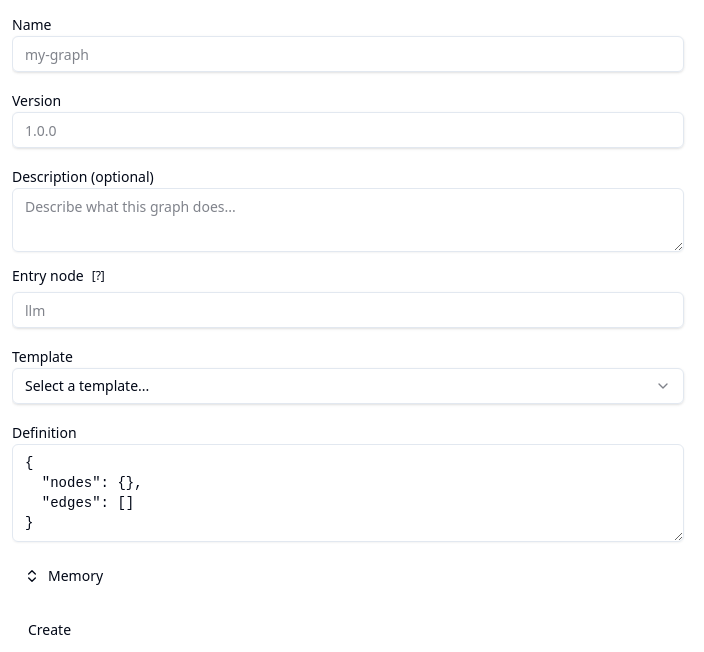
Scenario: GraphForm › shows JSON error for invalid definition
Clear the text box labelled "Definition". click: (348, 493)
box: top-left (12, 444), bottom-right (684, 542)
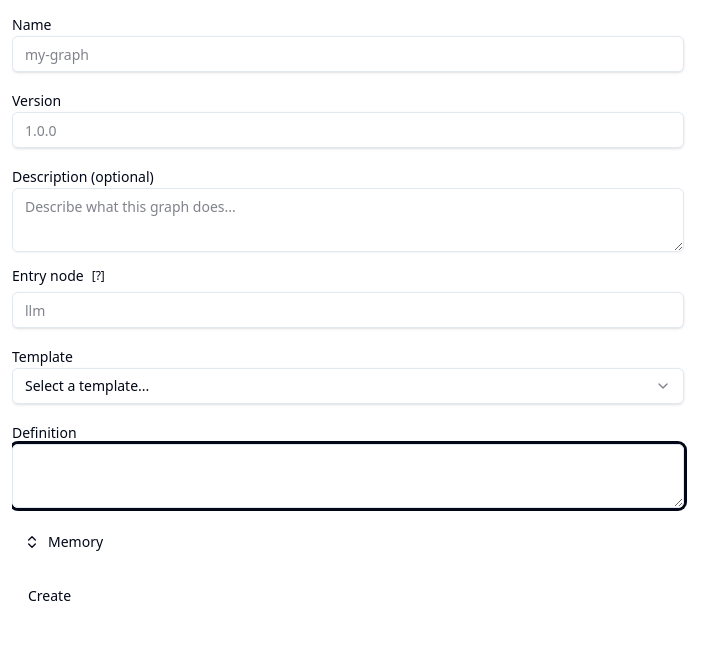
Type "not valid json" into the text box labelled "Definition". click: (348, 476)
box: top-left (12, 444), bottom-right (684, 508)
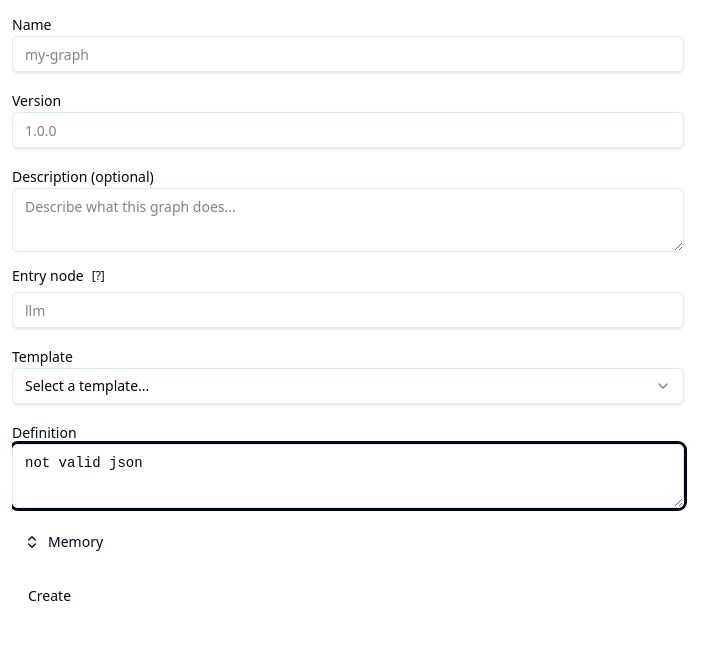
Press Tab
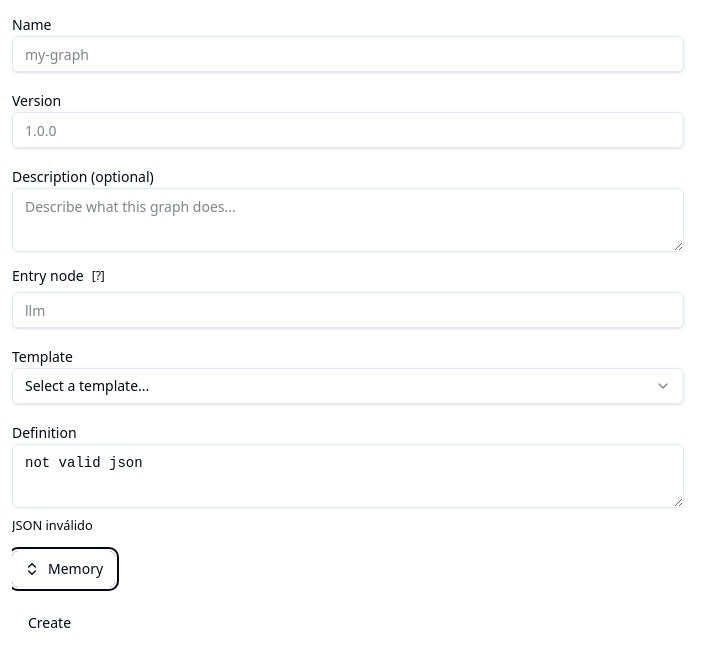
Now the text "JSON inválido" is shown, box top-left (12, 516), bottom-right (93, 534)
